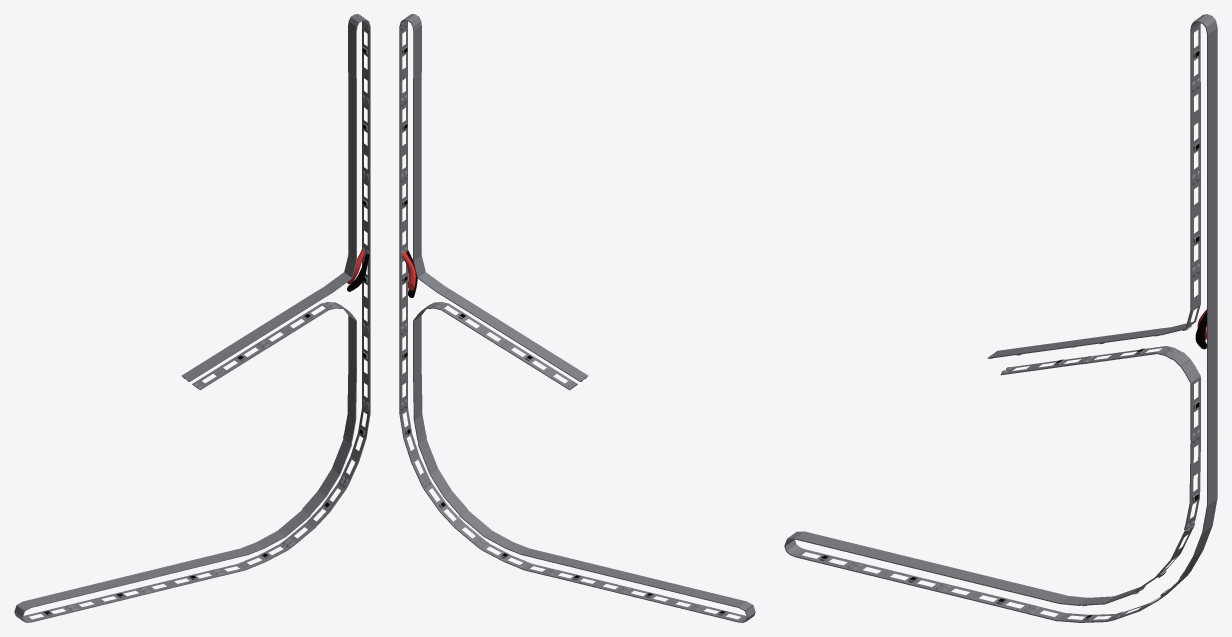
File: FIXED-LED.glb
The picture shows the model from 3 angles, left to right: view 1: azimuth 30°, elevation 25°; view 2: azimuth 150°, elevation 25°; view 3: azimuth 330°, elevation 25°; orthographic projection. The views are drawn at different scales.
Visible parts, largest first — view 1: FIXED-LED; view 2: FIXED-LED; view 3: FIXED-LED.
Boxes of the visible parts, x1=… form: FIXED-LED: x1=14, y1=14, x2=370, y2=622; FIXED-LED: x1=399, y1=14, x2=755, y2=622; FIXED-LED: x1=784, y1=14, x2=1217, y2=622.
Size of the model in its own units: 31.9 by 45.64 by 1.39.
